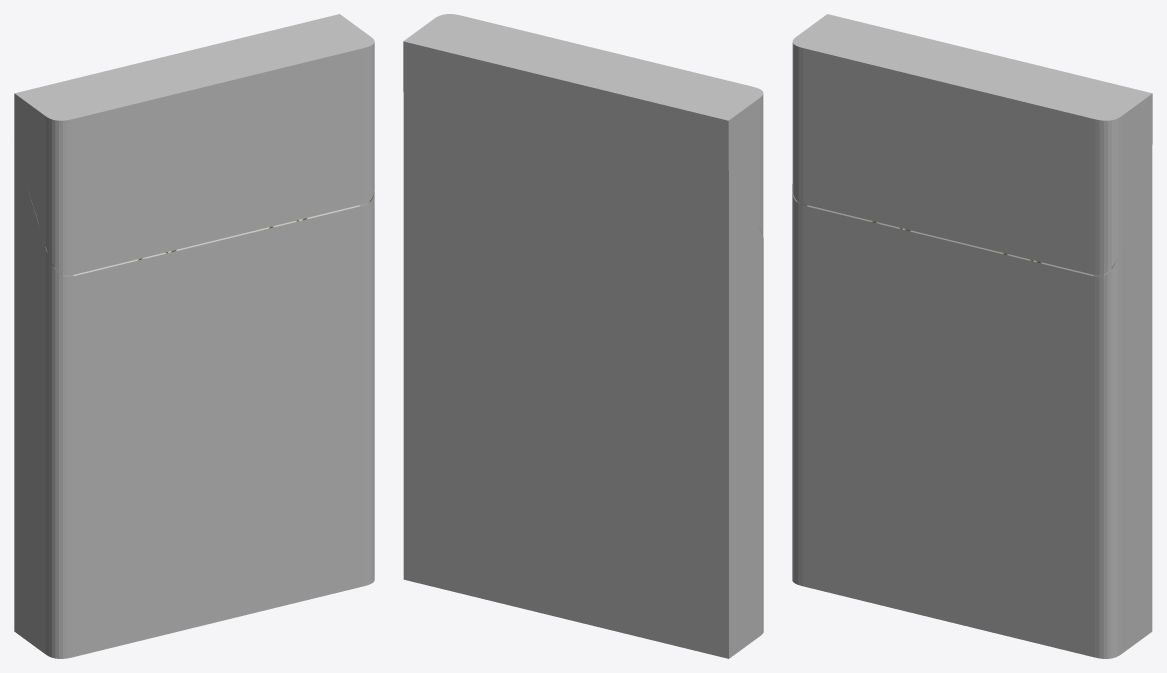
Rendered from fenghuang.FBX.
3 views of the same model, side by side, from view 1: azimuth 30°, elevation 25°; view 2: azimuth 150°, elevation 25°; view 3: azimuth 330°, elevation 25° (orthographic).
Visible parts, largest first — view 1: Box008, Box007, Box005; view 2: Box008, Box007; view 3: Box008, Box007, Box005.
Boxes of the visible parts, box(x1,y1,x2,y2) form: Box008: box(14, 143, 374, 658); Box007: box(14, 14, 374, 275); Box005: box(31, 200, 369, 276); Box008: box(403, 92, 763, 658); Box007: box(403, 14, 763, 236); Box008: box(792, 146, 1152, 658); Box007: box(792, 14, 1152, 275); Box005: box(797, 201, 1117, 276).
Size of the model in its own units: 2.14 by 3.37 by 0.4674.
